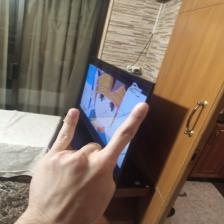five: (38, 100, 152, 208)
